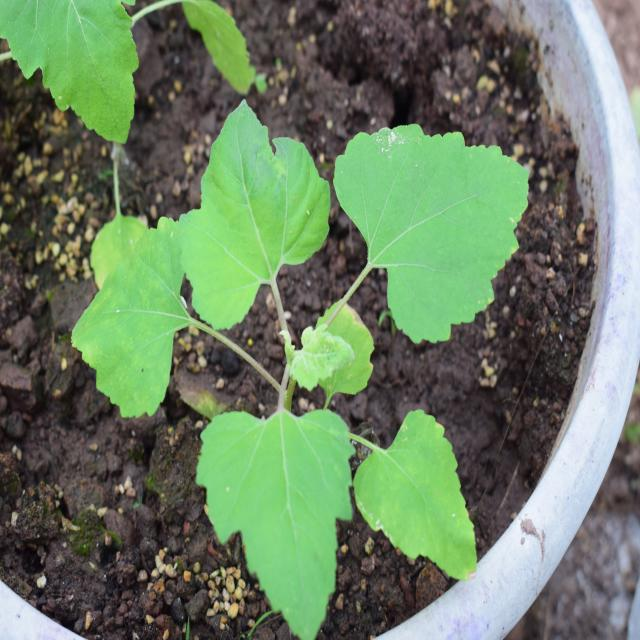cocklebur: (83, 72, 551, 615)
